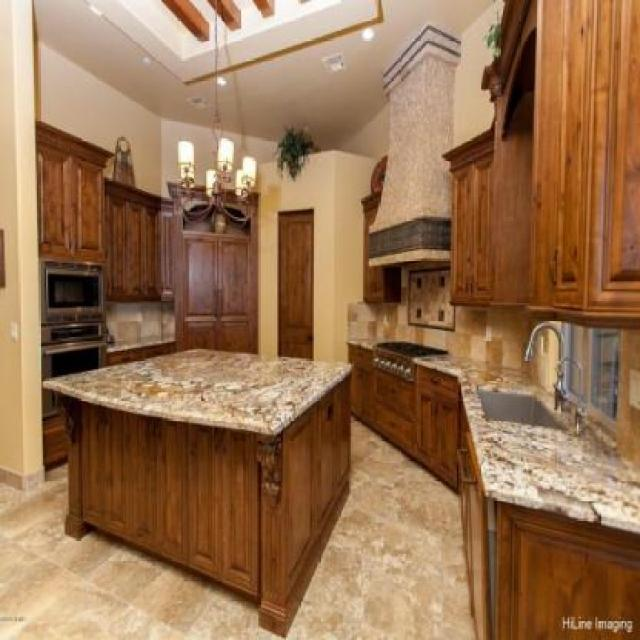floor: (2, 409, 479, 640)
